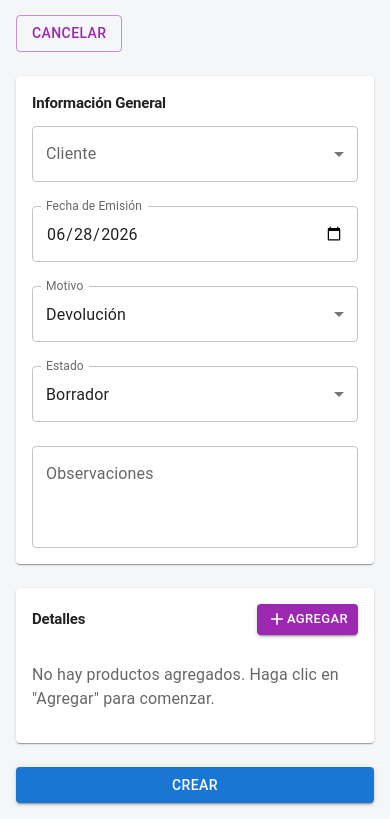
Scenario: NotaCreditoVentaFormPage › bloquea el submit y muestra validación sin cliente ni detalles
(page scrolled)
Click the button "Crear".
click(195, 785)  # box x1=16 y1=767 x2=374 y2=803
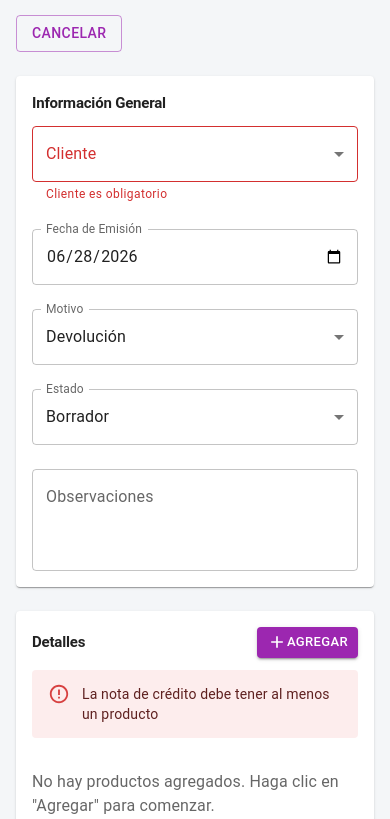
Result: the text "Cliente es obligatorio" is shown at x1=46 y1=187 x2=167 y2=201
Result: the text "La nota de crédito debe tener al menos un producto" is shown at x1=82 y1=676 x2=342 y2=732
